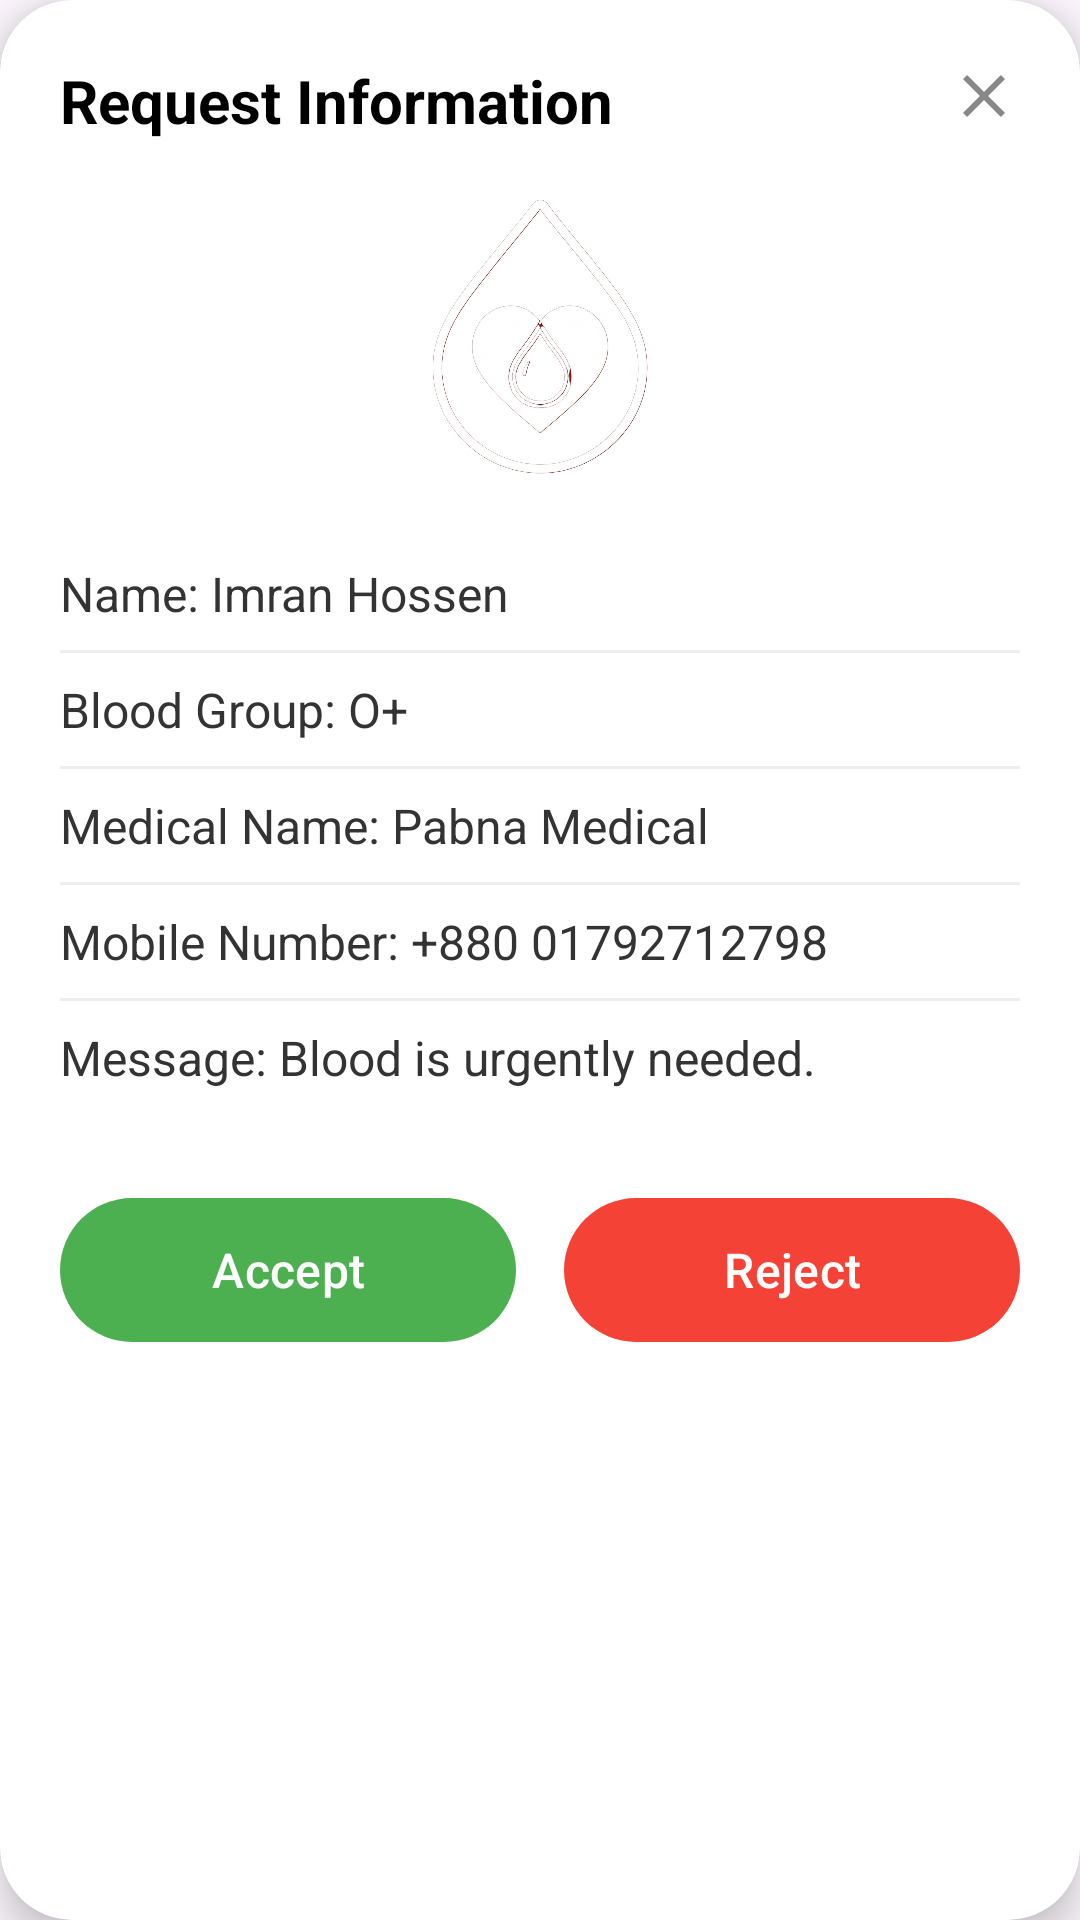

Icons on this 1080px×1920px Android screen, each with the point to tap as (x,y):
close: (984,96)
